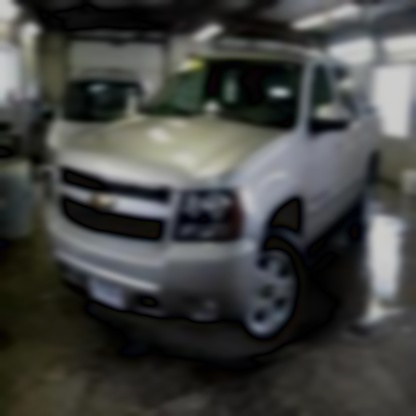Vehicle: (40, 39, 387, 360)
